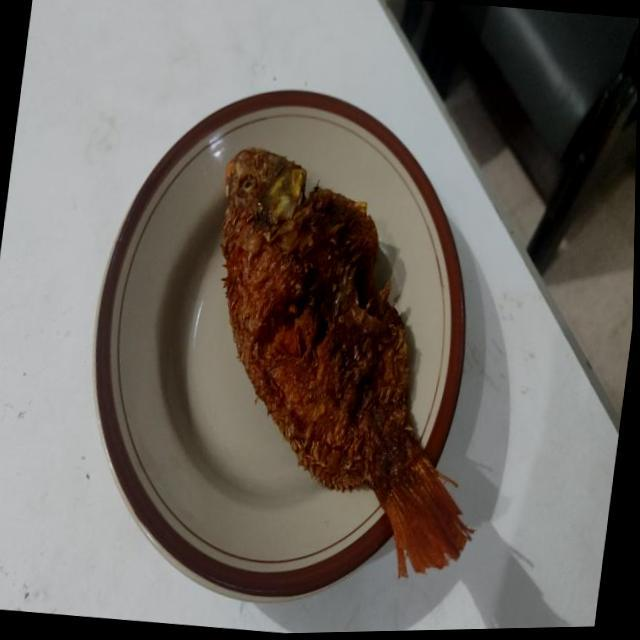ikan_mujair: (221, 146, 473, 576)
